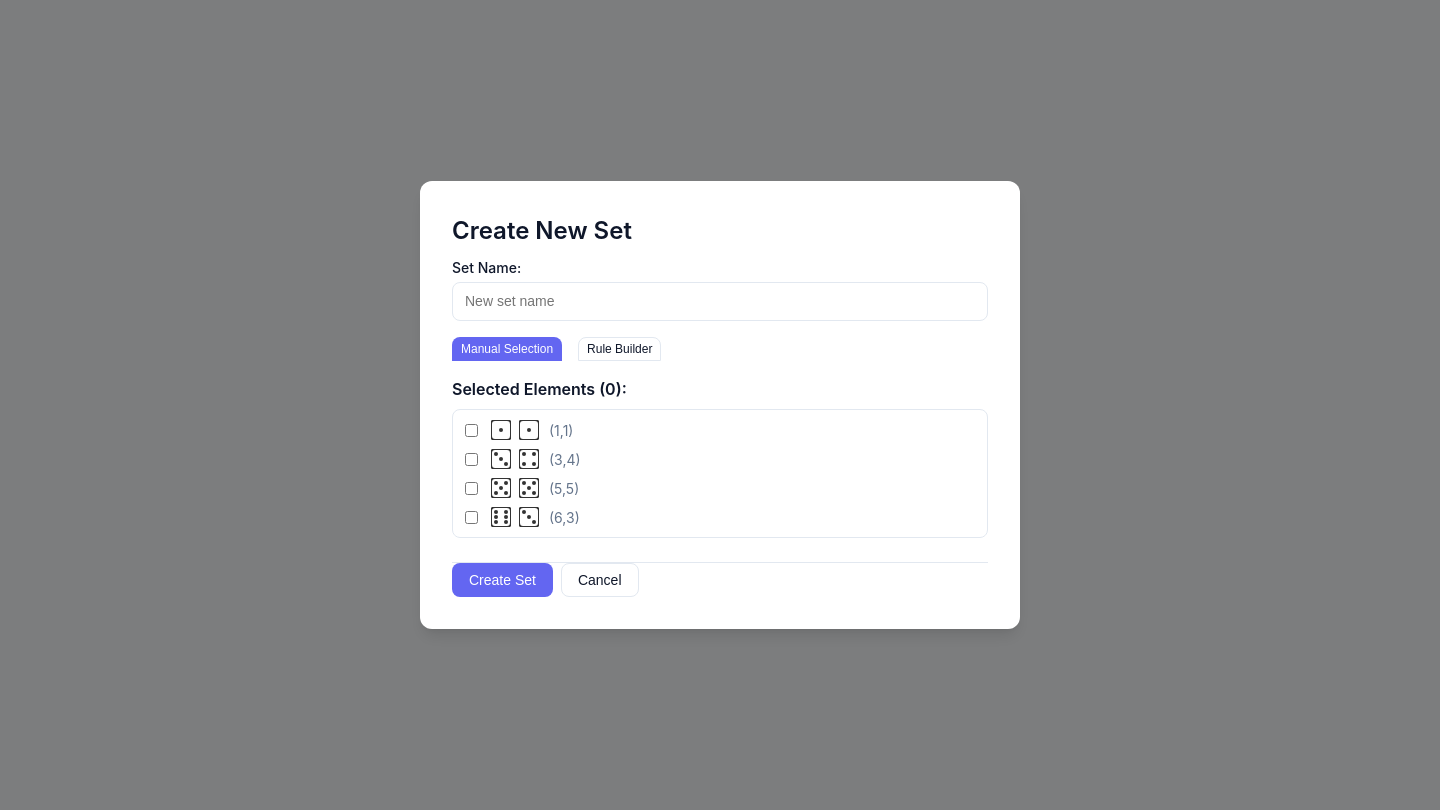
it: SetEditModal Smart Sets › applies DOUBLES rule correctly
The image size is (1440, 810).
Click the button "Rule Builder" at [620, 349], box [578, 337, 662, 361]
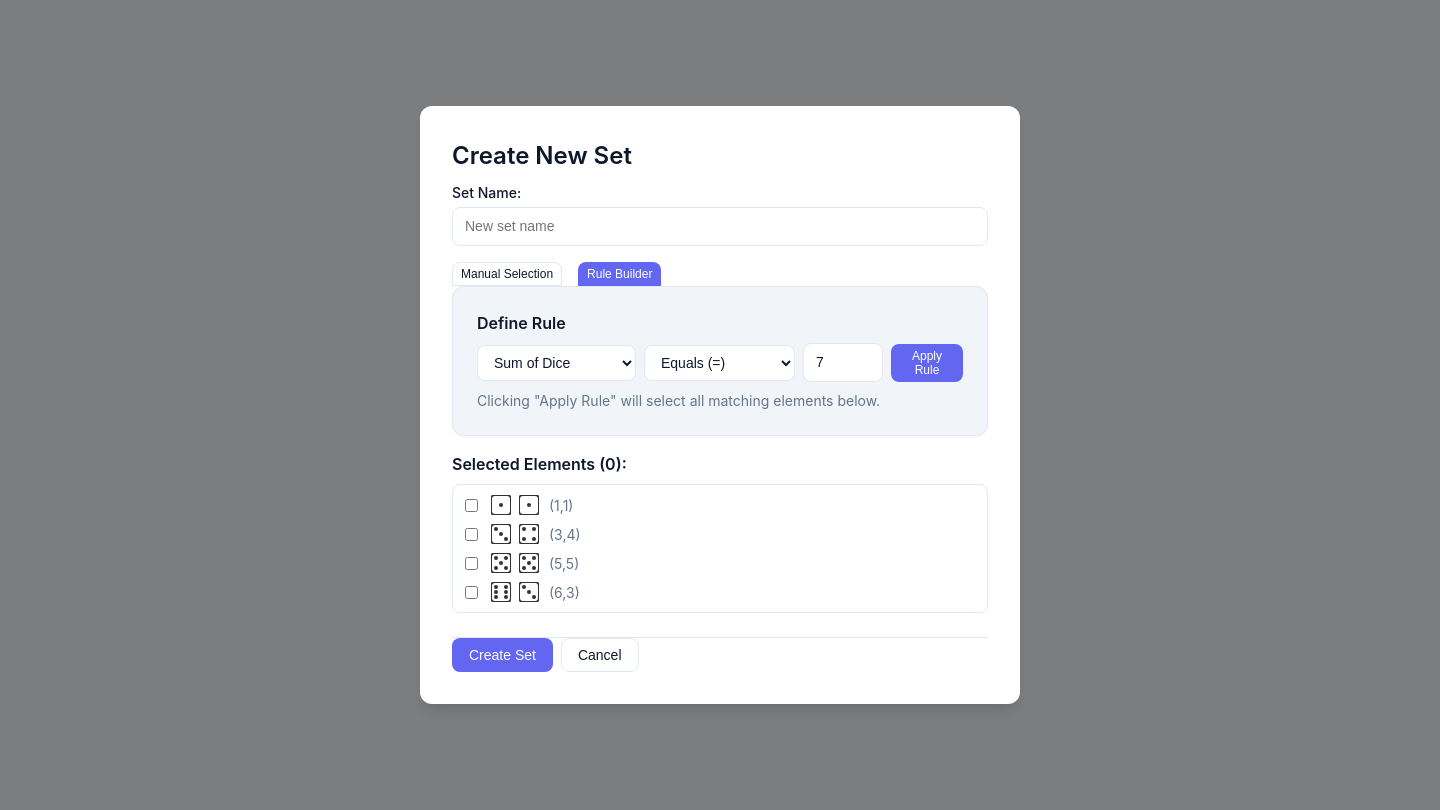
Note: Change Rule Type to DOUBLES
Select "Doubles (e.g. 1,1)" in the 1st dropdown showing "Sum of Dice" at [556, 362], box [477, 344, 636, 380]
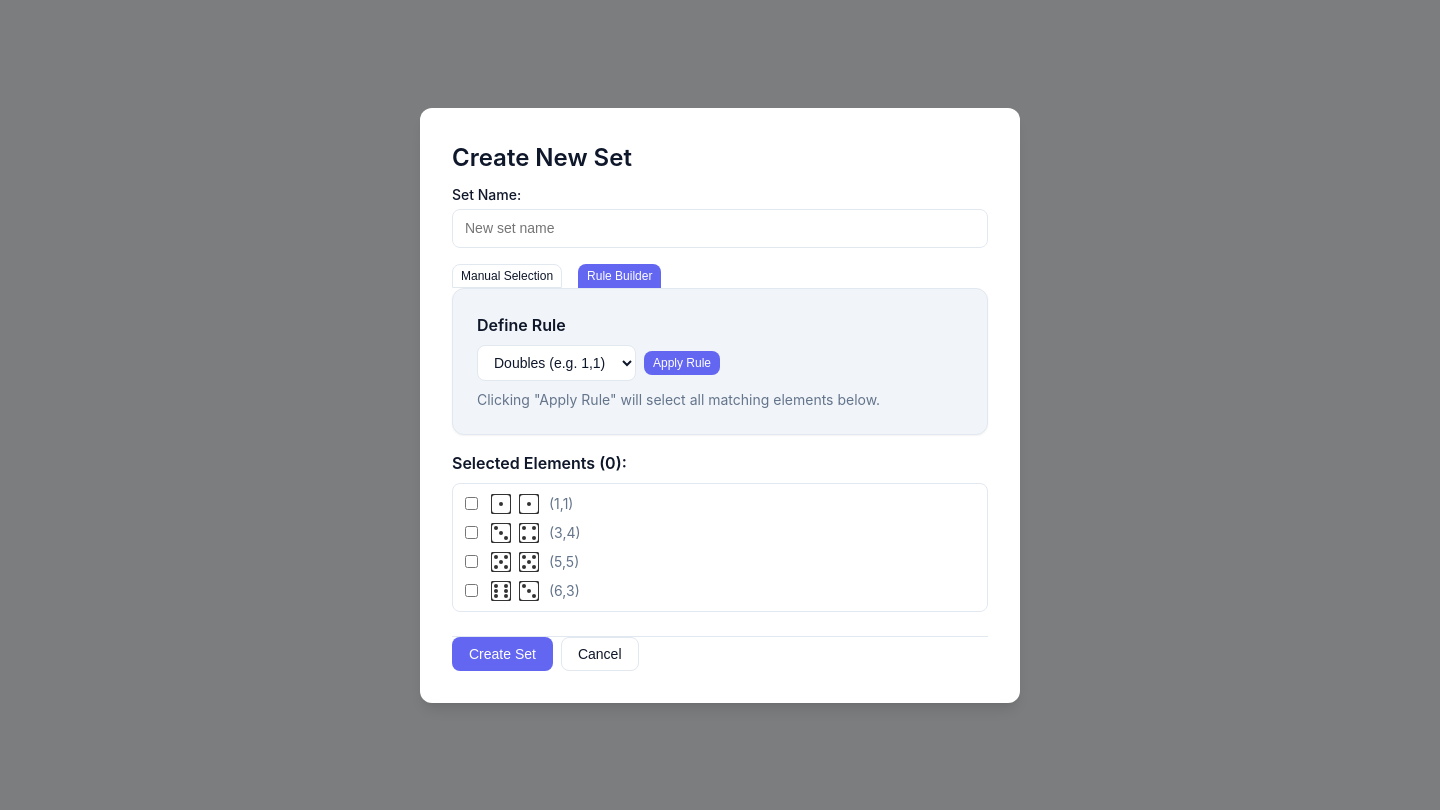
Click the button "Apply Rule" at [682, 362], box [644, 350, 720, 374]
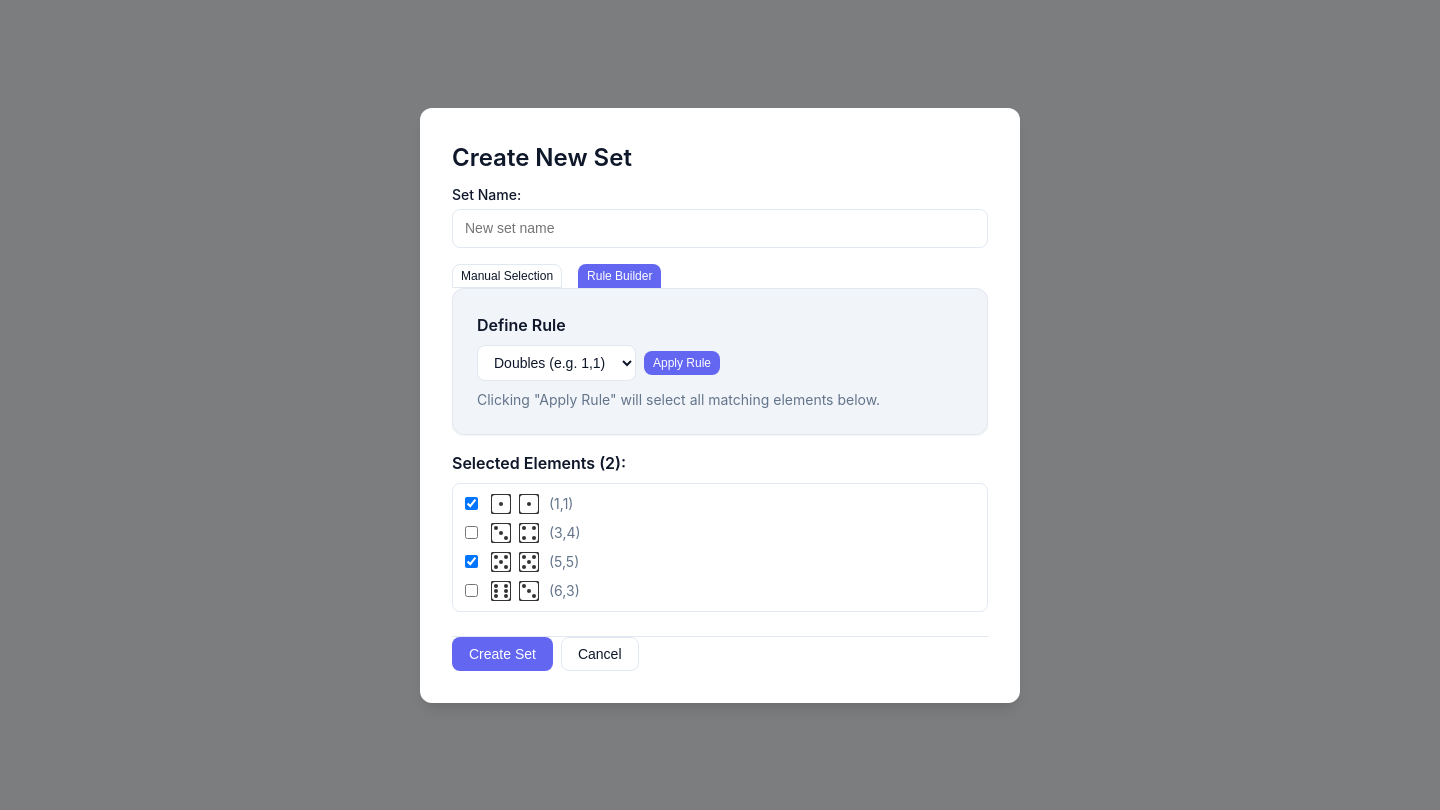
Expected: the checkbox labelled "(3,4)" is not checked, [465, 526, 478, 539]
Expected: the checkbox labelled "(1,1)" is checked, [465, 497, 478, 510]
Expected: the checkbox labelled "(5,5)" is checked, [465, 555, 478, 568]
